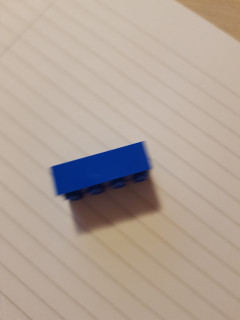2x4 blue: (47, 138, 154, 204)
